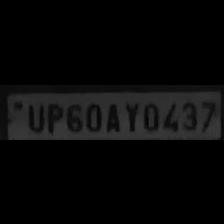0: (138, 98, 160, 132), (83, 100, 103, 132)
3: (179, 96, 201, 132)
4: (160, 98, 180, 132)
6: (62, 100, 84, 132)
7: (198, 97, 216, 131)
A: (102, 98, 122, 132)
P: (44, 100, 62, 132)
U: (24, 100, 44, 132)
Y: (121, 98, 141, 134)
